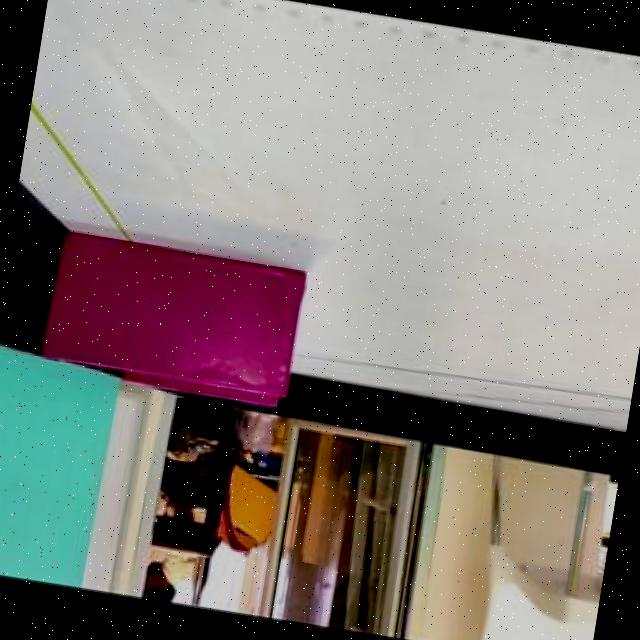xparking: (53, 232, 301, 396)
